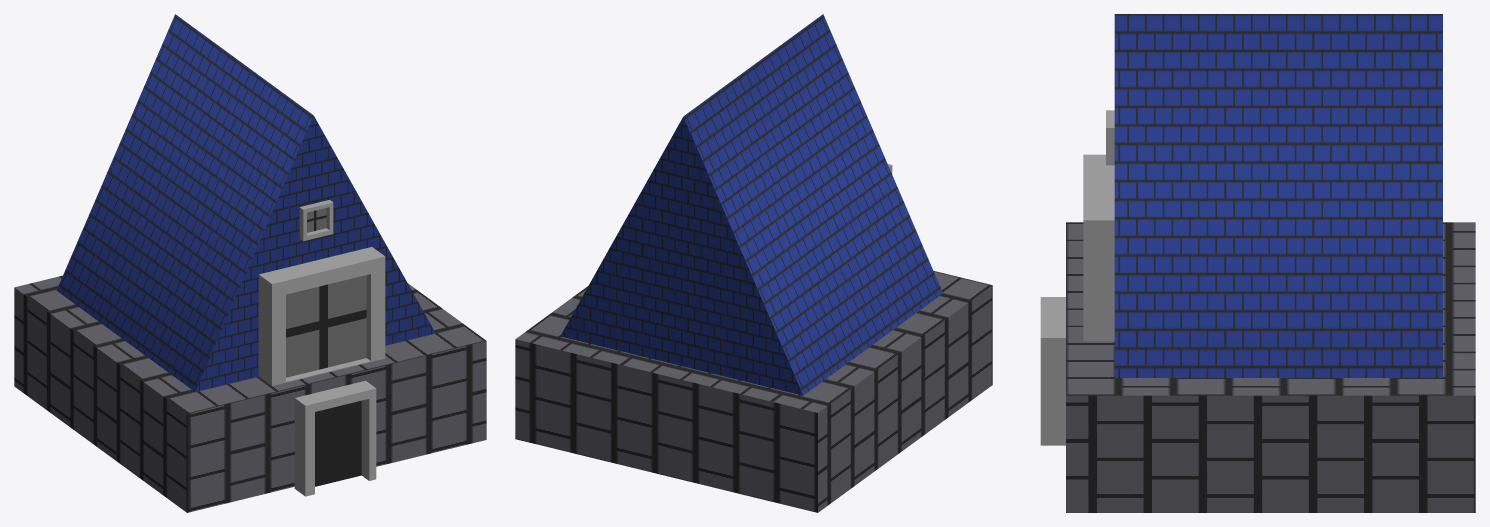
The model's file is building_triA.fbx.
3 views of the same model, side by side, from view 1: azimuth 30°, elevation 25°; view 2: azimuth 150°, elevation 25°; view 3: azimuth 270°, elevation 25° (orthographic). The views are drawn at different scales.
Parts seen in each view (by area): view 1: polySurface10; view 2: polySurface10; view 3: polySurface10.
Part boxes in pixels (<box>): polySurface10: <box>14,14,486,512</box>; polySurface10: <box>515,14,992,512</box>; polySurface10: <box>1040,14,1475,512</box>.
Size of the model in its own units: 9.91 by 11.03 by 10.99.
5 materials, 2 textured.
